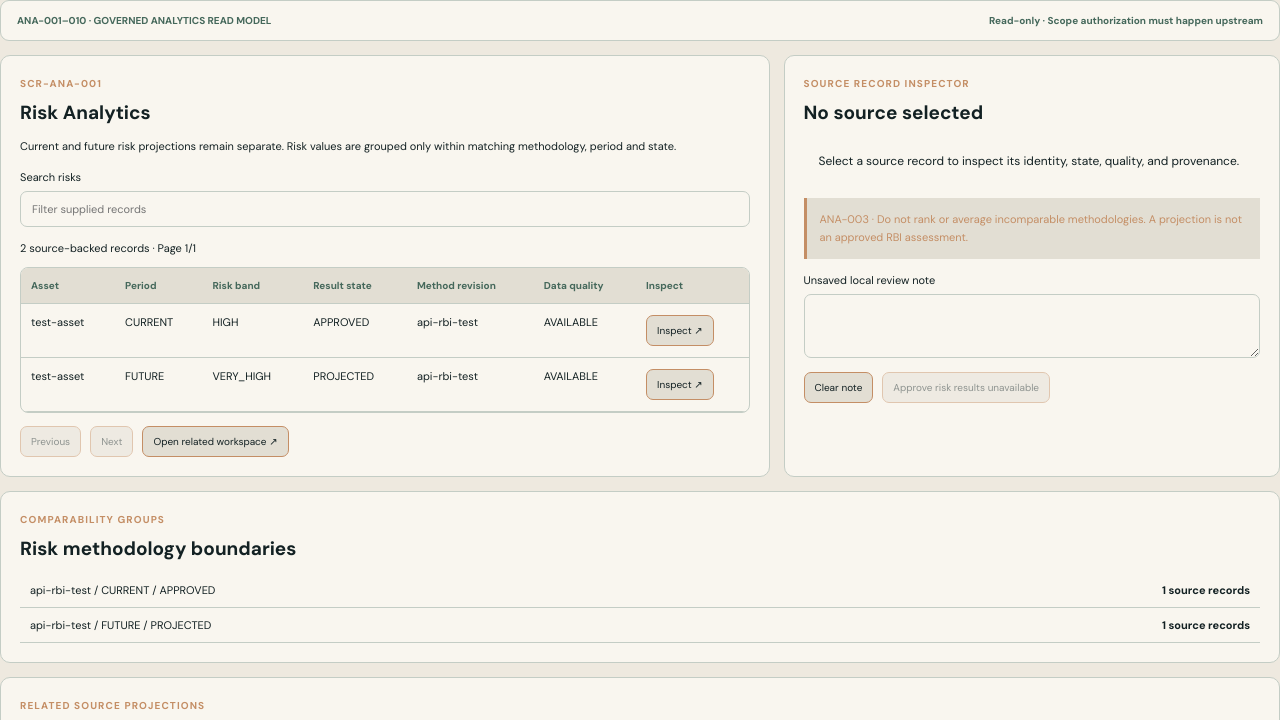
Test: ANA engineering comparability and safe analytics interactions › inspects source record and keeps search local
The image size is (1280, 720).
In the search field labelled "Search risks": (385, 209) [20,191,750,227], type "nonexistent"
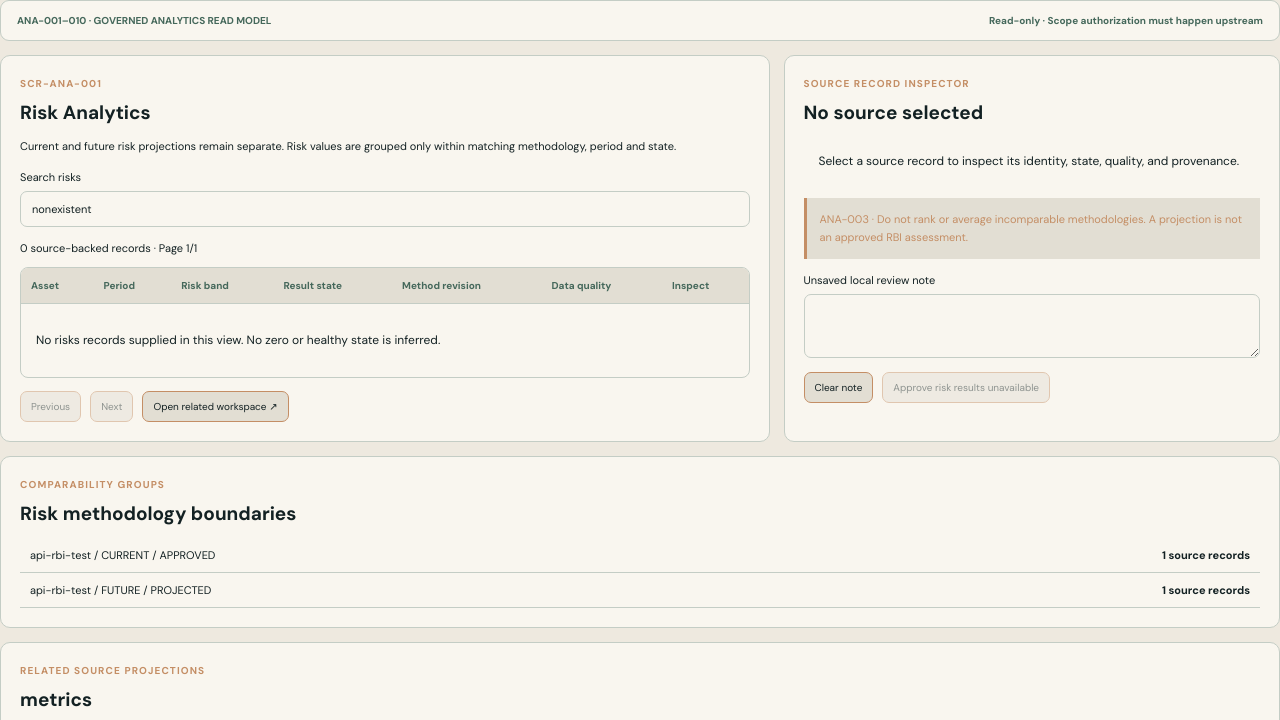
Now the text "No risks records" is shown, box [36,332,440,348]
